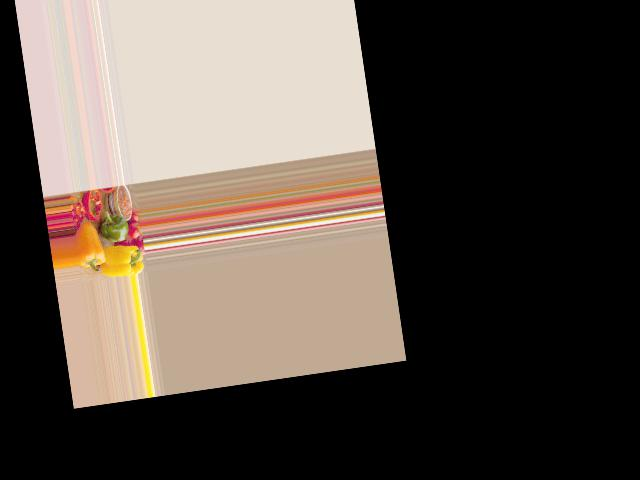bell_pepper: (104, 241, 144, 277)
